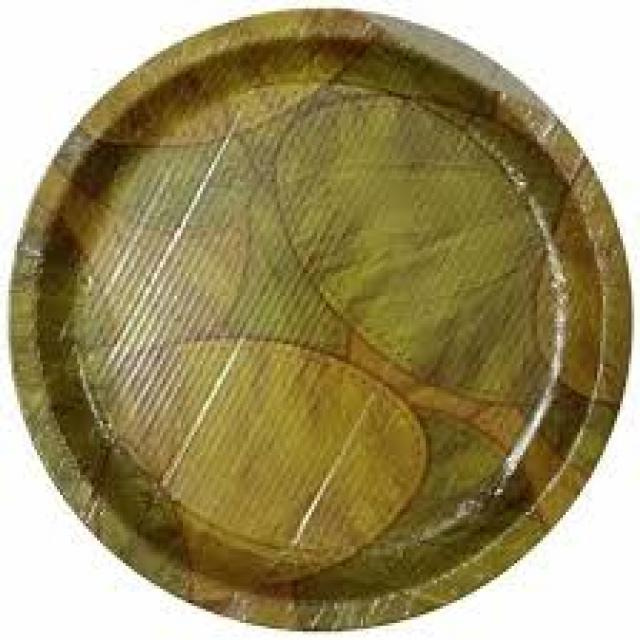Paper -Biodegradable-: (7, 11, 627, 630)
